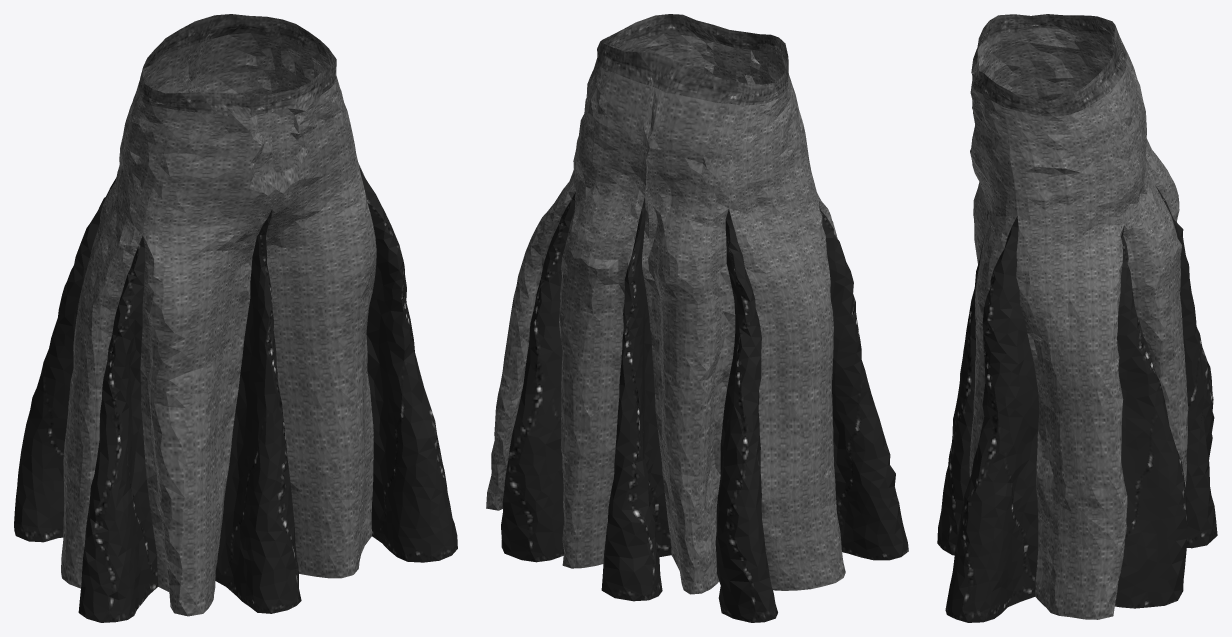
The model's file is mhw_elvs_gored_midi_skirt.glb.
3 views of the same model, side by side, from view 1: azimuth 30°, elevation 25°; view 2: azimuth 150°, elevation 25°; view 3: azimuth 270°, elevation 25° (orthographic).
Visible parts, largest first — view 1: mhw_elvs_gored_midi_skirt; view 2: mhw_elvs_gored_midi_skirt; view 3: mhw_elvs_gored_midi_skirt.
Boxes of the visible parts, box(x1,y1,x2,y2) form: mhw_elvs_gored_midi_skirt: box(14, 14, 457, 622); mhw_elvs_gored_midi_skirt: box(486, 14, 908, 622); mhw_elvs_gored_midi_skirt: box(937, 14, 1217, 622).
Size of the model in its own units: 0.6377 by 0.8653 by 0.4236.
Materials: 1 (1 with a texture image).
